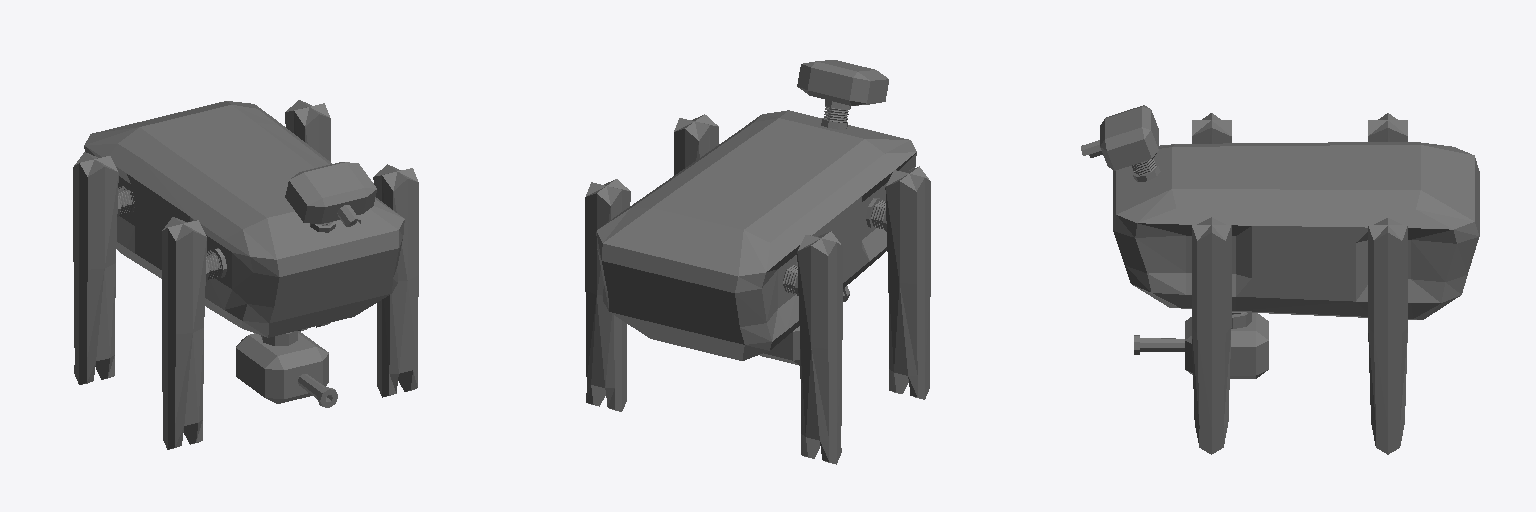
Rendered from Guardian.obj.
3 views of the same model, side by side, from view 1: azimuth 30°, elevation 25°; view 2: azimuth 150°, elevation 25°; view 3: azimuth 270°, elevation 25° (orthographic).
Parts seen in each view (by area): view 1: polySurface3, polySurface18, polySurface15, polySurface21, polySurface36pCylinder7, polySurface34polySurface31, polySurface24, pCylinder7polySurface35; view 2: polySurface3, polySurface15, polySurface18, polySurface24, polySurface34polySurface31, polySurface21, polySurface36pCylinder7; view 3: polySurface3, polySurface21, polySurface24, polySurface34polySurface31, polySurface36pCylinder7, polySurface15, polySurface18, pCylinder7polySurface35.
Part boxes in pixels (x1,y1,x2,y2): polySurface3: (84,101,404,337); polySurface18: (73,152,118,384); polySurface15: (162,217,206,449); polySurface21: (373,164,418,397); polySurface36pCylinder7: (236,331,328,403); polySurface34polySurface31: (285,162,376,223); polySurface24: (285,100,330,331); pCylinder7polySurface35: (298,374,337,407); polySurface3: (596,110,916,360); polySurface15: (885,166,930,399); polySurface18: (797,231,842,464); polySurface24: (585,179,630,411); polySurface34polySurface31: (797,60,888,105); polySurface21: (674,114,718,175); polySurface36pCylinder7: (760,326,799,365); polySurface3: (1113,142,1479,319); polySurface21: (1192,217,1231,454); polySurface24: (1368,218,1407,454); polySurface34polySurface31: (1100,105,1158,170); polySurface36pCylinder7: (1185,313,1268,378); polySurface15: (1192,113,1231,143); polySurface18: (1368,113,1407,141); pCylinder7polySurface35: (1134,335,1184,354).
Bounding box in the file's own units: 27.75 × 30.07 × 39.09.